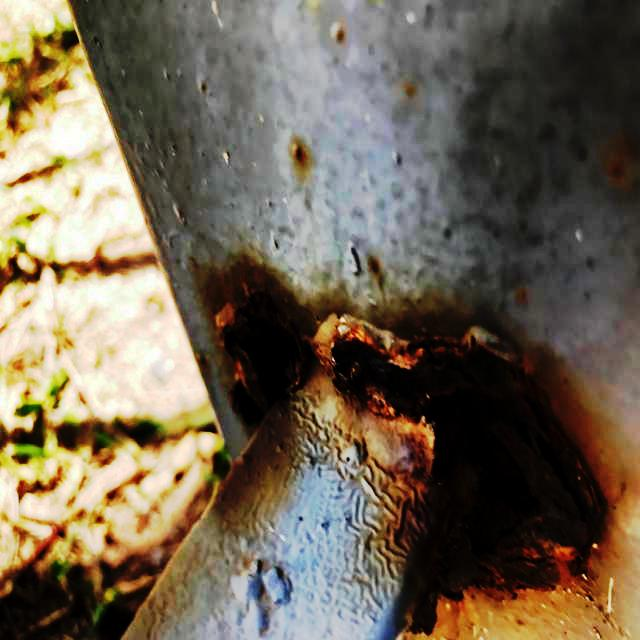Corrosion: (213, 279, 613, 640)
